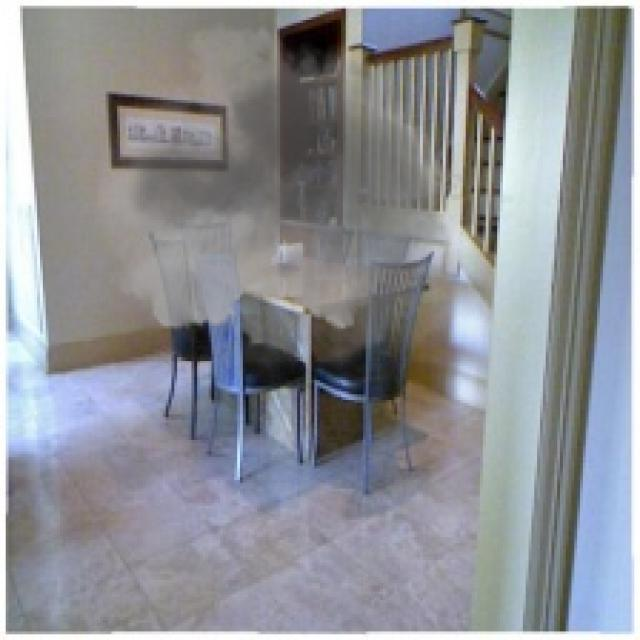Smoke: (94, 6, 477, 412)
